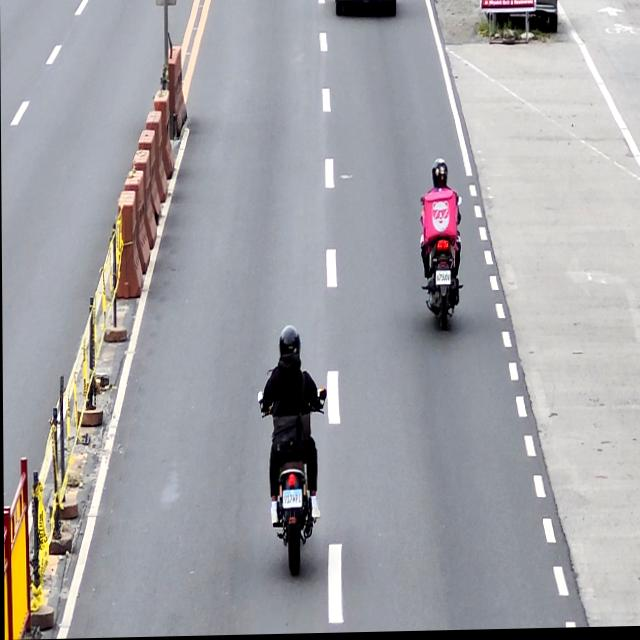License-Plate: (282, 491, 302, 511), (435, 273, 452, 288)
Motorcycle: (257, 384, 324, 580), (421, 196, 462, 333)
